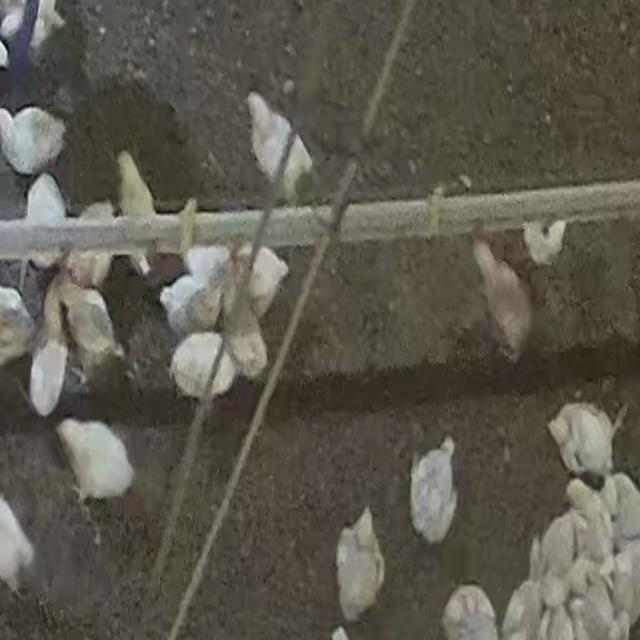chicken: (242, 92, 310, 205), (53, 414, 136, 506), (473, 245, 536, 350), (114, 151, 166, 275), (27, 279, 73, 417), (62, 282, 126, 376), (334, 510, 386, 625), (407, 432, 461, 542), (16, 172, 69, 284), (65, 204, 131, 289), (168, 330, 240, 404), (547, 402, 613, 479), (0, 105, 67, 176), (220, 278, 266, 381), (1, 482, 37, 600), (567, 478, 613, 567), (531, 511, 571, 605), (163, 275, 224, 332), (245, 244, 289, 318), (442, 582, 498, 640), (0, 282, 36, 366), (606, 472, 640, 542)
